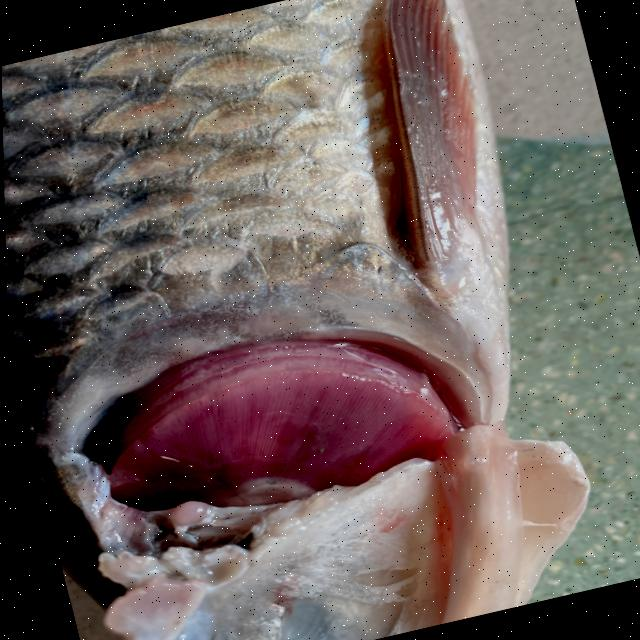Fresh: (45, 263, 518, 572)
